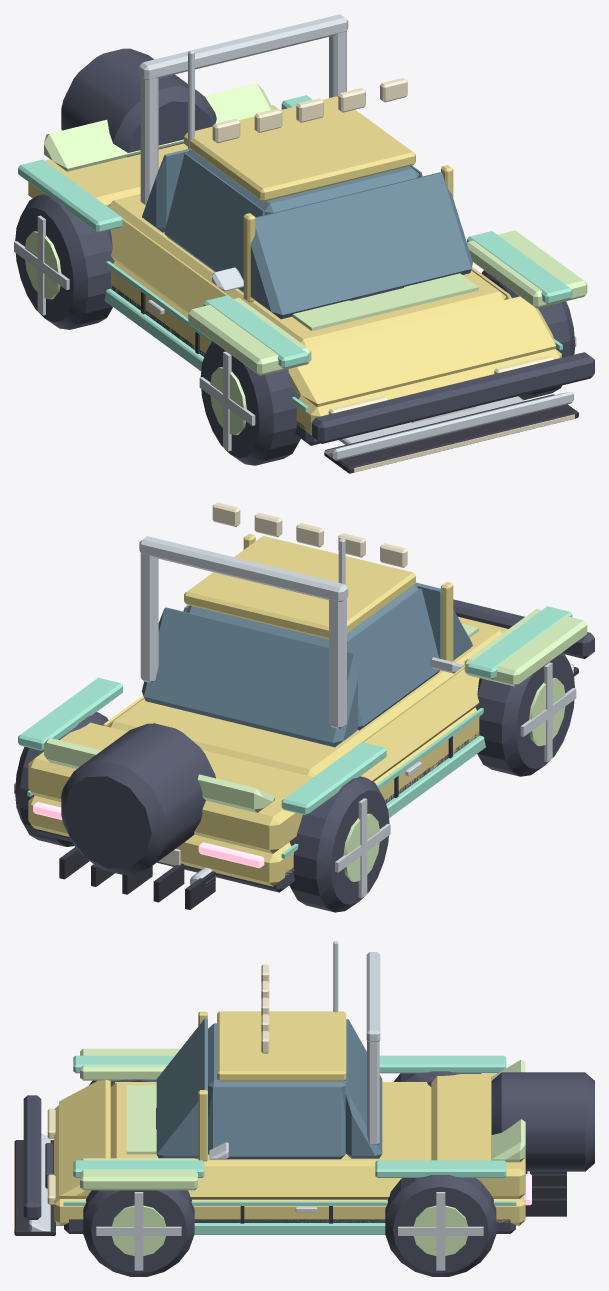
File: eagle_pass.fbx
3 views of the same model, one above another, from view 1: azimuth 30°, elevation 25°; view 2: azimuth 150°, elevation 25°; view 3: azimuth 270°, elevation 25° (orthographic). The views are drawn at different scales.
Visible parts, largest first — view 1: Body, Glass, Trim2, Accent3, Accent2, Accent, Wheel_RR, Wheel_FR, Metal, Light, Trim, Metal2 (+2 smaller); view 2: Body, Glass, Trim2, Accent, Accent2, Wheel_RR, Wheel_FR, Accent3, Metal, Trim, Light, Metal2 (+2 smaller); view 3: Body, Glass, Trim2, Accent, Accent3, Wheel_RL, Wheel_FL, Accent2, Trim, Metal, Metal2, Light (+2 smaller).
Boxes of the visible parts, x1,y1,x2,y2 form: Body: (28, 96, 561, 435); Glass: (142, 149, 472, 319); Trim2: (61, 48, 594, 445); Accent3: (44, 83, 587, 375); Accent2: (139, 14, 573, 460); Accent: (18, 95, 572, 411); Wheel_RR: (15, 193, 114, 329); Wheel_FR: (200, 341, 300, 465); Metal: (14, 215, 576, 451); Light: (212, 78, 574, 472); Trim: (141, 286, 578, 473); Metal2: (25, 231, 246, 435); Body: (28, 533, 508, 886); Glass: (142, 543, 472, 747); Trim2: (35, 599, 594, 892); Accent: (18, 606, 572, 858); Accent2: (139, 536, 573, 728); Wheel_RR: (289, 776, 389, 912); Wheel_FR: (475, 652, 574, 776); Accent3: (44, 608, 587, 812); Metal: (14, 662, 576, 897); Trim: (59, 667, 578, 909); Light: (212, 502, 407, 567); Metal2: (343, 678, 565, 881); Body: (54, 1011, 525, 1225); Glass: (156, 1018, 382, 1159); Trim2: (23, 1072, 594, 1233); Accent: (63, 1055, 516, 1234); Accent3: (80, 1048, 525, 1190); Wheel_RL: (385, 1175, 496, 1276); Wheel_FL: (83, 1190, 194, 1276); Accent2: (29, 941, 380, 1231); Trim: (14, 1108, 566, 1235); Metal: (56, 1192, 483, 1270); Metal2: (111, 1205, 467, 1255); Light: (14, 964, 269, 1233).
Size of the model in its own units: 3.16 by 2.77 by 5.91.
